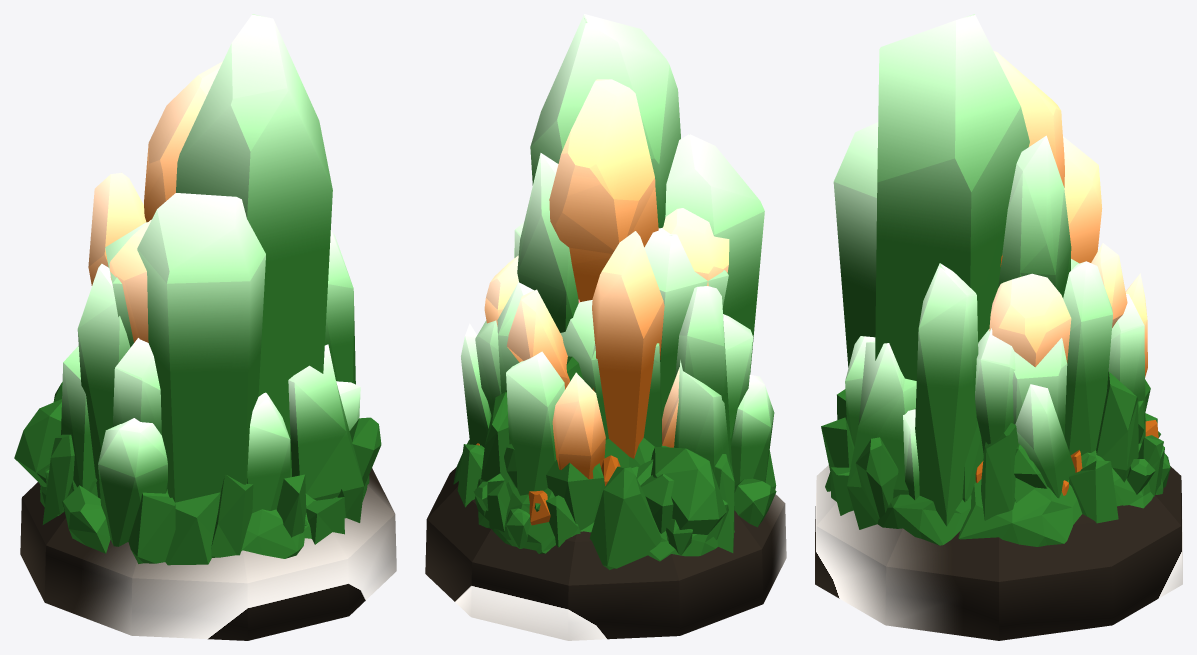
File: export_moneys.fbx
3 views of the same model, side by side, from view 1: azimuth 30°, elevation 25°; view 2: azimuth 150°, elevation 25°; view 3: azimuth 270°, elevation 25° (orthographic). The views are drawn at different scales.
Visible parts, largest first — view 1: boss_green, boss_orange; view 2: boss_green, boss_orange; view 3: boss_green, boss_orange.
Boxes of the visible parts, x1,y1,x2,y2 form: boss_green: (14, 14, 396, 640); boss_orange: (88, 61, 222, 342); boss_green: (425, 14, 786, 640); boss_orange: (476, 79, 729, 525); boss_green: (815, 14, 1182, 640); boss_orange: (975, 51, 1158, 495).
Bounding box in the file's own units: 20.93 × 19.9 × 35.15.
